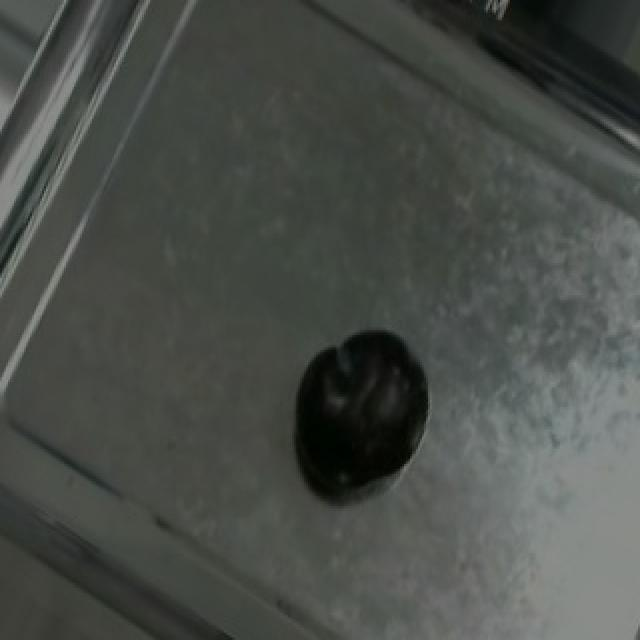Fruit: (278, 310, 442, 504)
